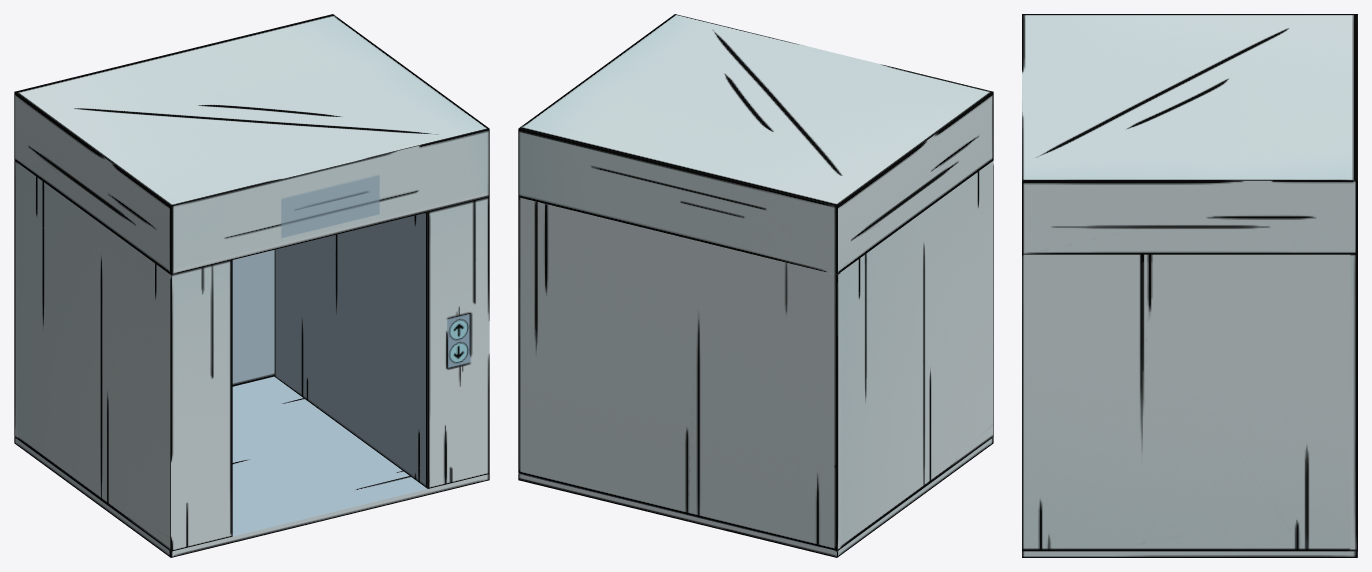
File: lift.fbx
3 renders of one model, left to right at view 1: azimuth 30°, elevation 25°; view 2: azimuth 150°, elevation 25°; view 3: azimuth 270°, elevation 25°, orthographic. The views are drawn at different scales.
Parts seen in each view (by area): view 1: lift; view 2: lift; view 3: lift.
Boxes of the visible parts, x1,y1,x2,y2 form: lift: (14, 14, 489, 557); lift: (518, 14, 993, 557); lift: (1022, 14, 1357, 557).
Size of the model in its own units: 2.35 by 2.48 by 2.
